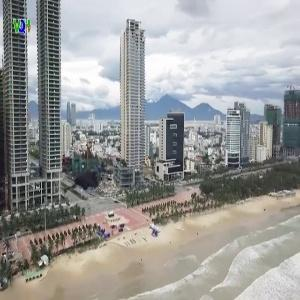drone: (37, 133, 120, 216)
